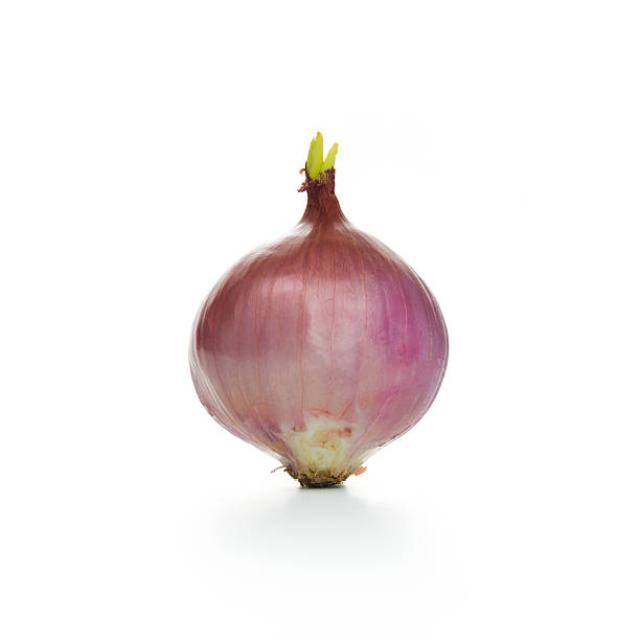onion: (184, 178, 456, 501)
